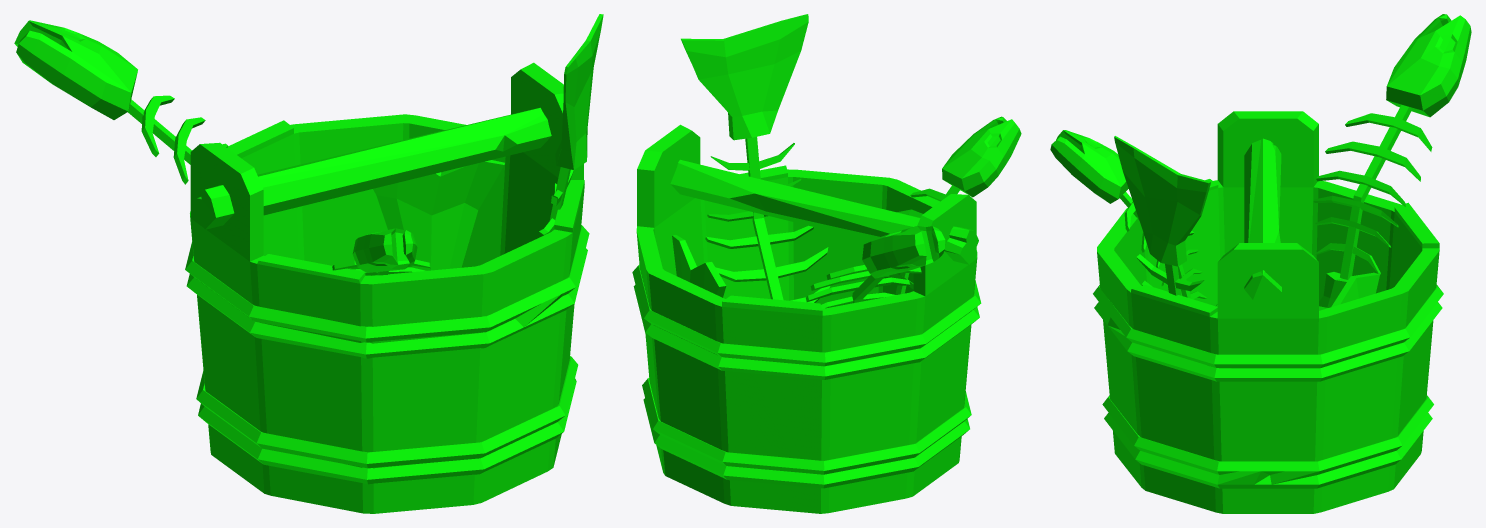
File: SM_Bucket_Fish_Bones.fbx
The picture shows the model from 3 angles, left to right: view 1: azimuth 30°, elevation 25°; view 2: azimuth 150°, elevation 25°; view 3: azimuth 270°, elevation 25°; orthographic projection. The views are drawn at different scales.
Visible parts, largest first — view 1: bucket-fish-bones; view 2: bucket-fish-bones; view 3: bucket-fish-bones.
Part boxes in pixels (box(x1,y1,x2,y2)): bucket-fish-bones: box(14, 14, 603, 513); bucket-fish-bones: box(632, 14, 1021, 513); bucket-fish-bones: box(1050, 14, 1471, 513).
Size of the model in its own units: 0.5153 by 0.4575 by 0.4951.
